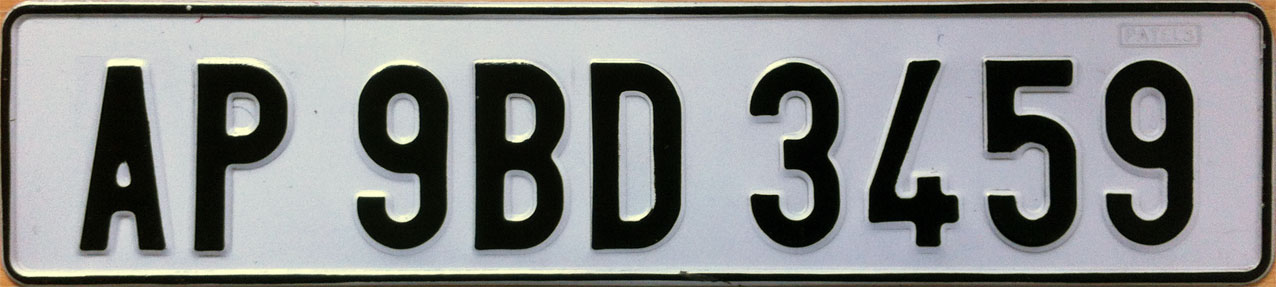numberplate: (6, 3, 1276, 286)
